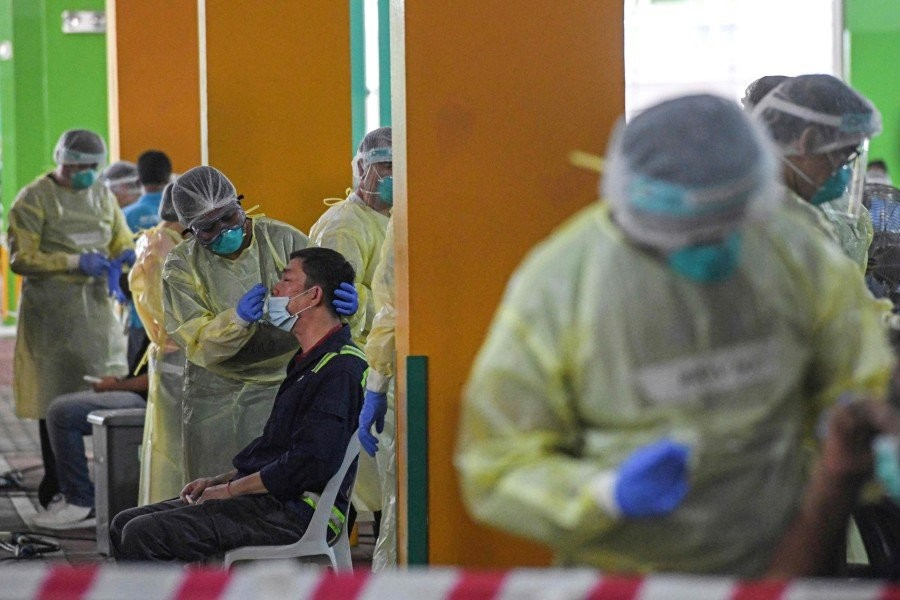Coverall: (445, 189, 896, 583), (130, 214, 323, 533), (1, 177, 135, 430)
Face_Shield: (784, 117, 877, 241)
Gloves: (609, 434, 702, 529), (355, 385, 389, 459), (232, 281, 270, 327), (330, 282, 364, 322), (77, 250, 111, 277)
Goggles: (191, 207, 248, 240)
masked_weared_incorrect: (263, 257, 312, 335)
with_mask: (812, 141, 857, 209), (201, 210, 246, 258), (367, 162, 397, 207), (67, 164, 100, 194)
